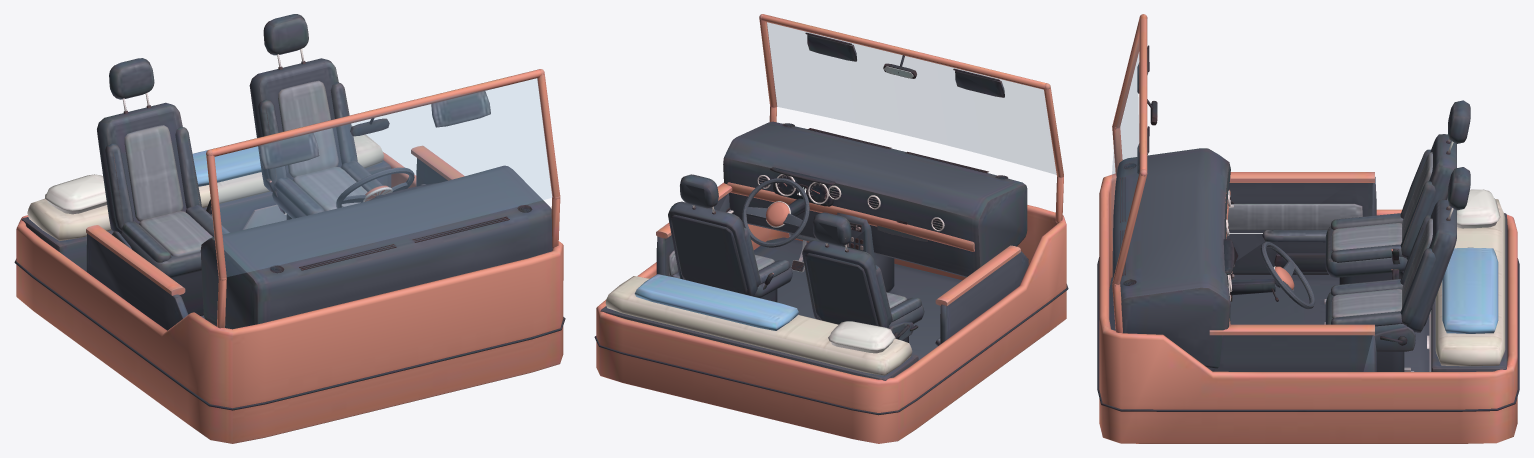
File: truck-cabin-interior.glb
3 renders of one model, left to right at view 1: azimuth 30°, elevation 25°; view 2: azimuth 150°, elevation 25°; view 3: azimuth 270°, elevation 25°, orthographic. The views are drawn at different scales.
Visible parts, largest first — view 1: truck-cabin-interior_body, truck-cabin-interior_windshield_glass, truck-cabin-interior_steering_wheel; view 2: truck-cabin-interior_body, truck-cabin-interior_windshield_glass, truck-cabin-interior_steering_wheel; view 3: truck-cabin-interior_body, truck-cabin-interior_windshield_glass, truck-cabin-interior_steering_wheel.
Boxes of the visible parts, left/top/right/bottom form: truck-cabin-interior_body: left=14, top=14, right=565, bottom=443; truck-cabin-interior_windshield_glass: left=215, top=78, right=552, bottom=276; truck-cabin-interior_steering_wheel: left=336, top=167, right=414, bottom=208; truck-cabin-interior_body: left=594, top=14, right=1068, bottom=443; truck-cabin-interior_windshield_glass: left=766, top=22, right=1056, bottom=174; truck-cabin-interior_steering_wheel: left=742, top=178, right=809, bottom=247; truck-cabin-interior_body: left=1097, top=14, right=1519, bottom=443; truck-cabin-interior_windshield_glass: left=1111, top=39, right=1139, bottom=269; truck-cabin-interior_steering_wheel: left=1260, top=242, right=1315, bottom=309.
Bounding box in the file's own units: 2.34 × 1.74 × 2.48.
Materials: 10 (2 with a texture image).
